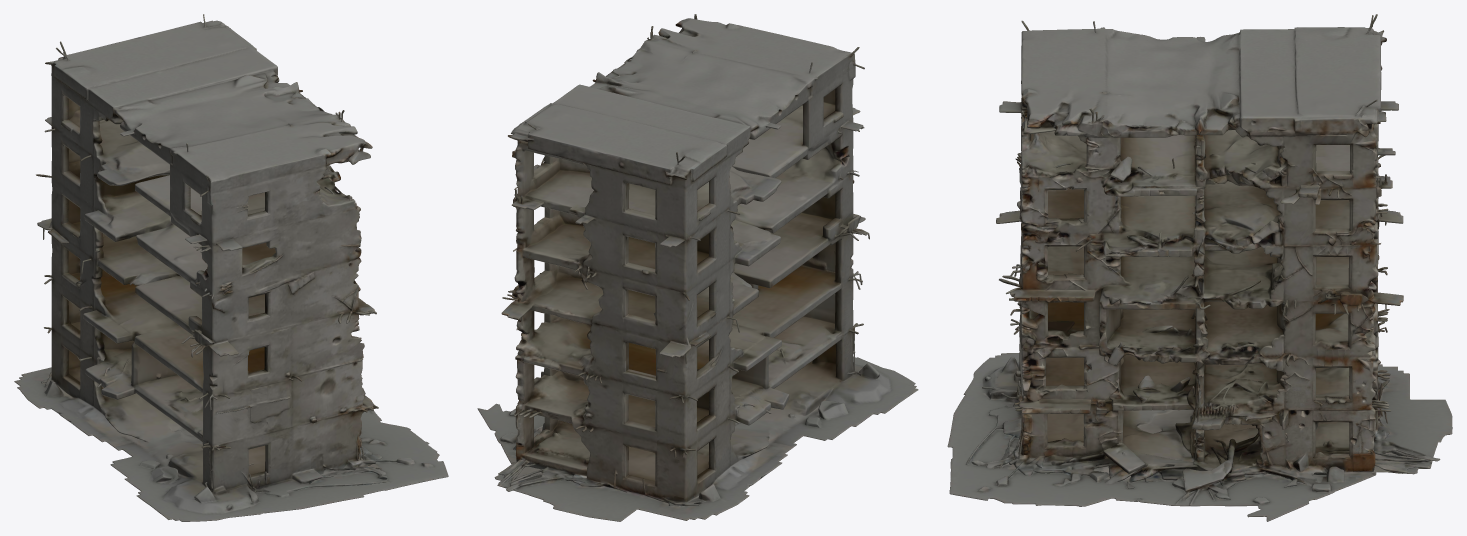
Rendered from apartment_block.glb.
3 views of the same model, side by side, from view 1: azimuth 30°, elevation 25°; view 2: azimuth 150°, elevation 25°; view 3: azimuth 270°, elevation 25° (orthographic). The views are drawn at different scales.
Visible parts, largest first — view 1: tripo_node_a7369ca8-053d-4849-9f27-4d969618bdba; view 2: tripo_node_a7369ca8-053d-4849-9f27-4d969618bdba; view 3: tripo_node_a7369ca8-053d-4849-9f27-4d969618bdba.
Part boxes in pixels (left/top/right/bottom): tripo_node_a7369ca8-053d-4849-9f27-4d969618bdba: left=14, top=14, right=448, bottom=521; tripo_node_a7369ca8-053d-4849-9f27-4d969618bdba: left=477, top=14, right=918, bottom=521; tripo_node_a7369ca8-053d-4849-9f27-4d969618bdba: left=947, top=14, right=1452, bottom=521.
Bounding box in the file's own units: 0.7546 × 0.8135 × 0.9846.
Materials: 1 (1 with a texture image).
